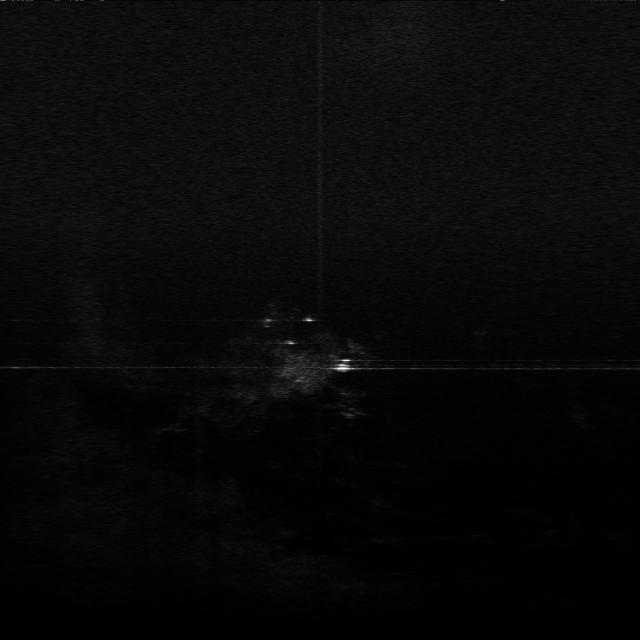rov: (330, 355, 354, 374)
